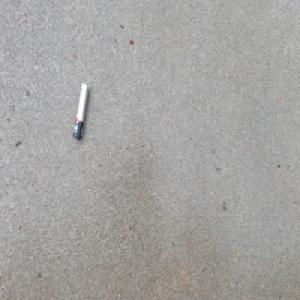Battery: (72, 82, 90, 141)
